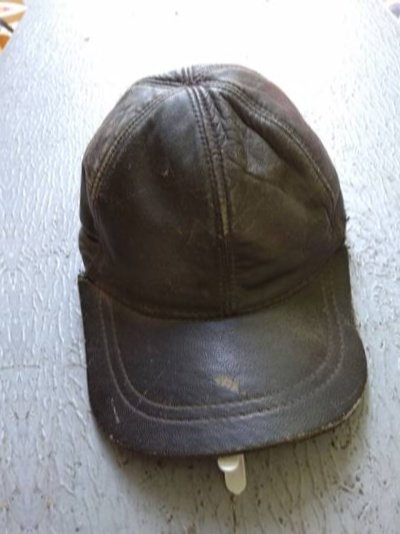Hat: (29, 44, 384, 489)
